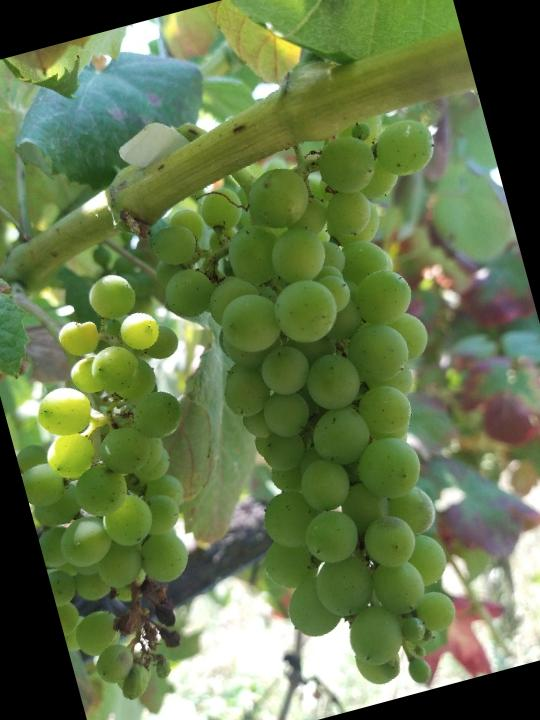grape: (128, 103, 540, 720), (0, 256, 271, 717)
